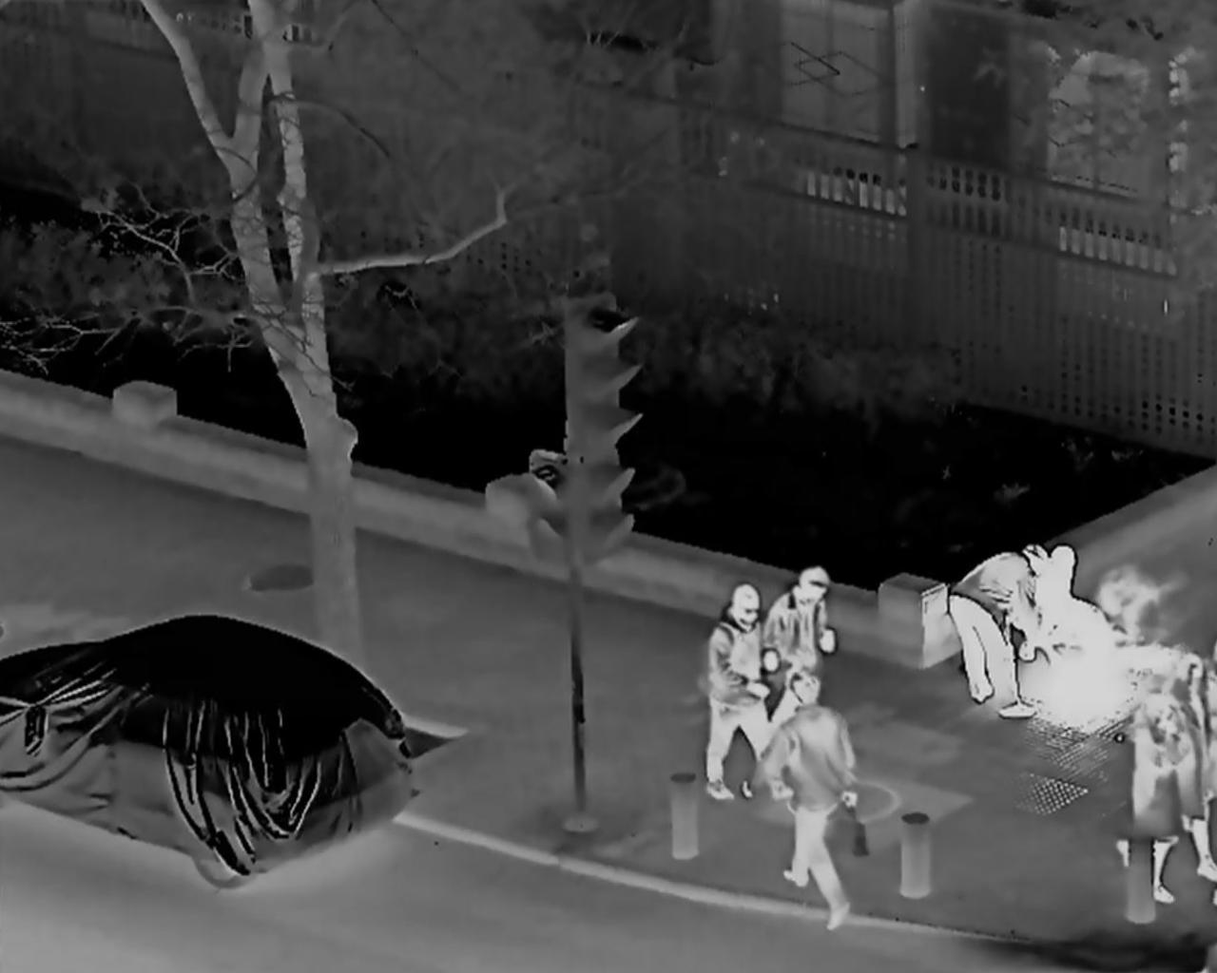person: (766, 675, 861, 931), (944, 541, 1047, 719), (705, 580, 781, 795), (761, 565, 834, 782), (1150, 656, 1217, 880), (1122, 699, 1181, 905), (1017, 543, 1112, 667)
